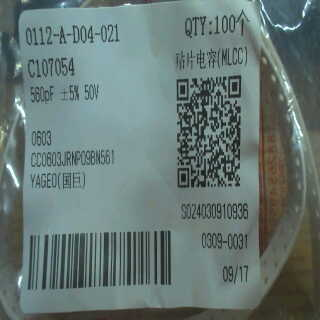560pF: (27, 80, 57, 110)
